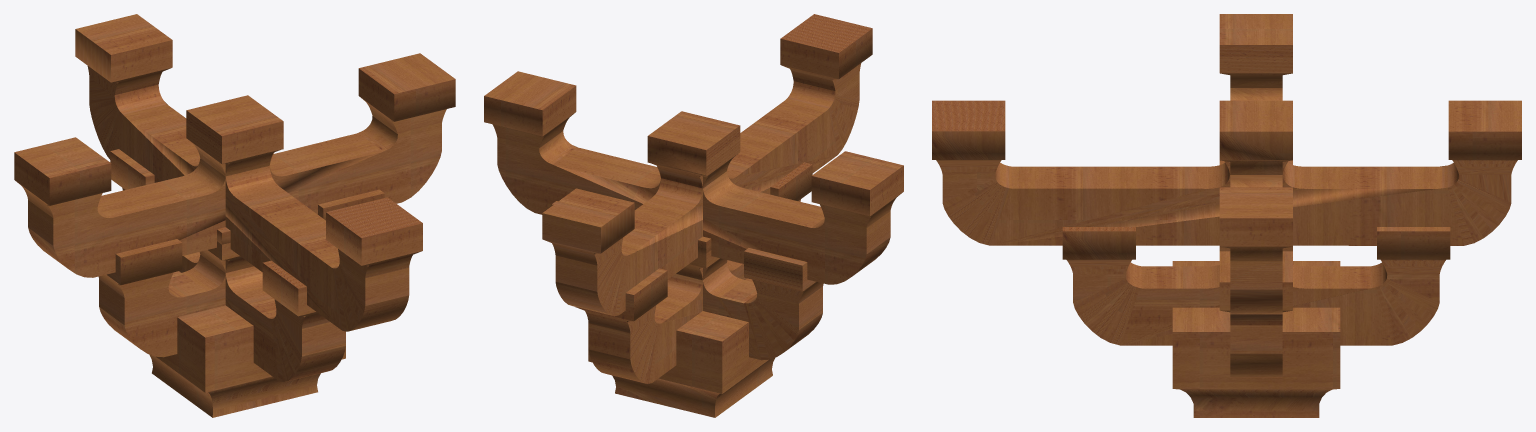
3 views of the same model, side by side, from view 1: azimuth 30°, elevation 25°; view 2: azimuth 150°, elevation 25°; view 3: azimuth 270°, elevation 25° (orthographic). The views are drawn at different scales.
Visible parts, largest first — view 1: samor_4136_6146, samor_4136_6148, samor_4136_6147, samor_4136_6149, samor_4136_6150, samor_4136_6151; view 2: samor_4136_6148, samor_4136_6146, samor_4136_6147, samor_4136_6149, samor_4136_6150, samor_4136_6151; view 3: samor_4136_6146, samor_4136_6147, samor_4136_6148, samor_4136_6150, samor_4136_6149, samor_4136_6151.
Boxes of the visible parts, <box> form: samor_4136_6146: <box>75,14,422,331</box>; samor_4136_6148: <box>14,53,455,277</box>; samor_4136_6147: <box>110,149,345,382</box>; samor_4136_6149: <box>98,189,384,357</box>; samor_4136_6150: <box>156,271,345,392</box>; samor_4136_6151: <box>149,354,320,417</box>; samor_4136_6148: <box>484,71,903,284</box>; samor_4136_6146: <box>542,14,872,316</box>; samor_4136_6147: <box>575,162,812,383</box>; samor_4136_6149: <box>551,201,823,360</box>; samor_4136_6150: <box>588,278,768,393</box>; samor_4136_6151: <box>612,358,774,417</box>; samor_4136_6146: <box>932,100,1521,245</box>; samor_4136_6147: <box>1062,227,1450,345</box>; samor_4136_6148: <box>1219,14,1292,314</box>; samor_4136_6150: <box>1172,261,1340,388</box>; samor_4136_6149: <box>1219,160,1292,377</box>; samor_4136_6151: <box>1176,389,1336,417</box>.
Bounding box in the file's own units: 37.76 × 23.75 × 46.08.
2 materials, 2 textured.
